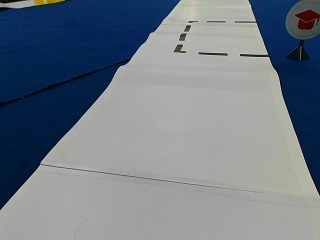school: (285, 1, 319, 39)
